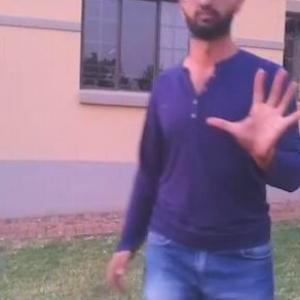follow_hand: (203, 62, 300, 169)
